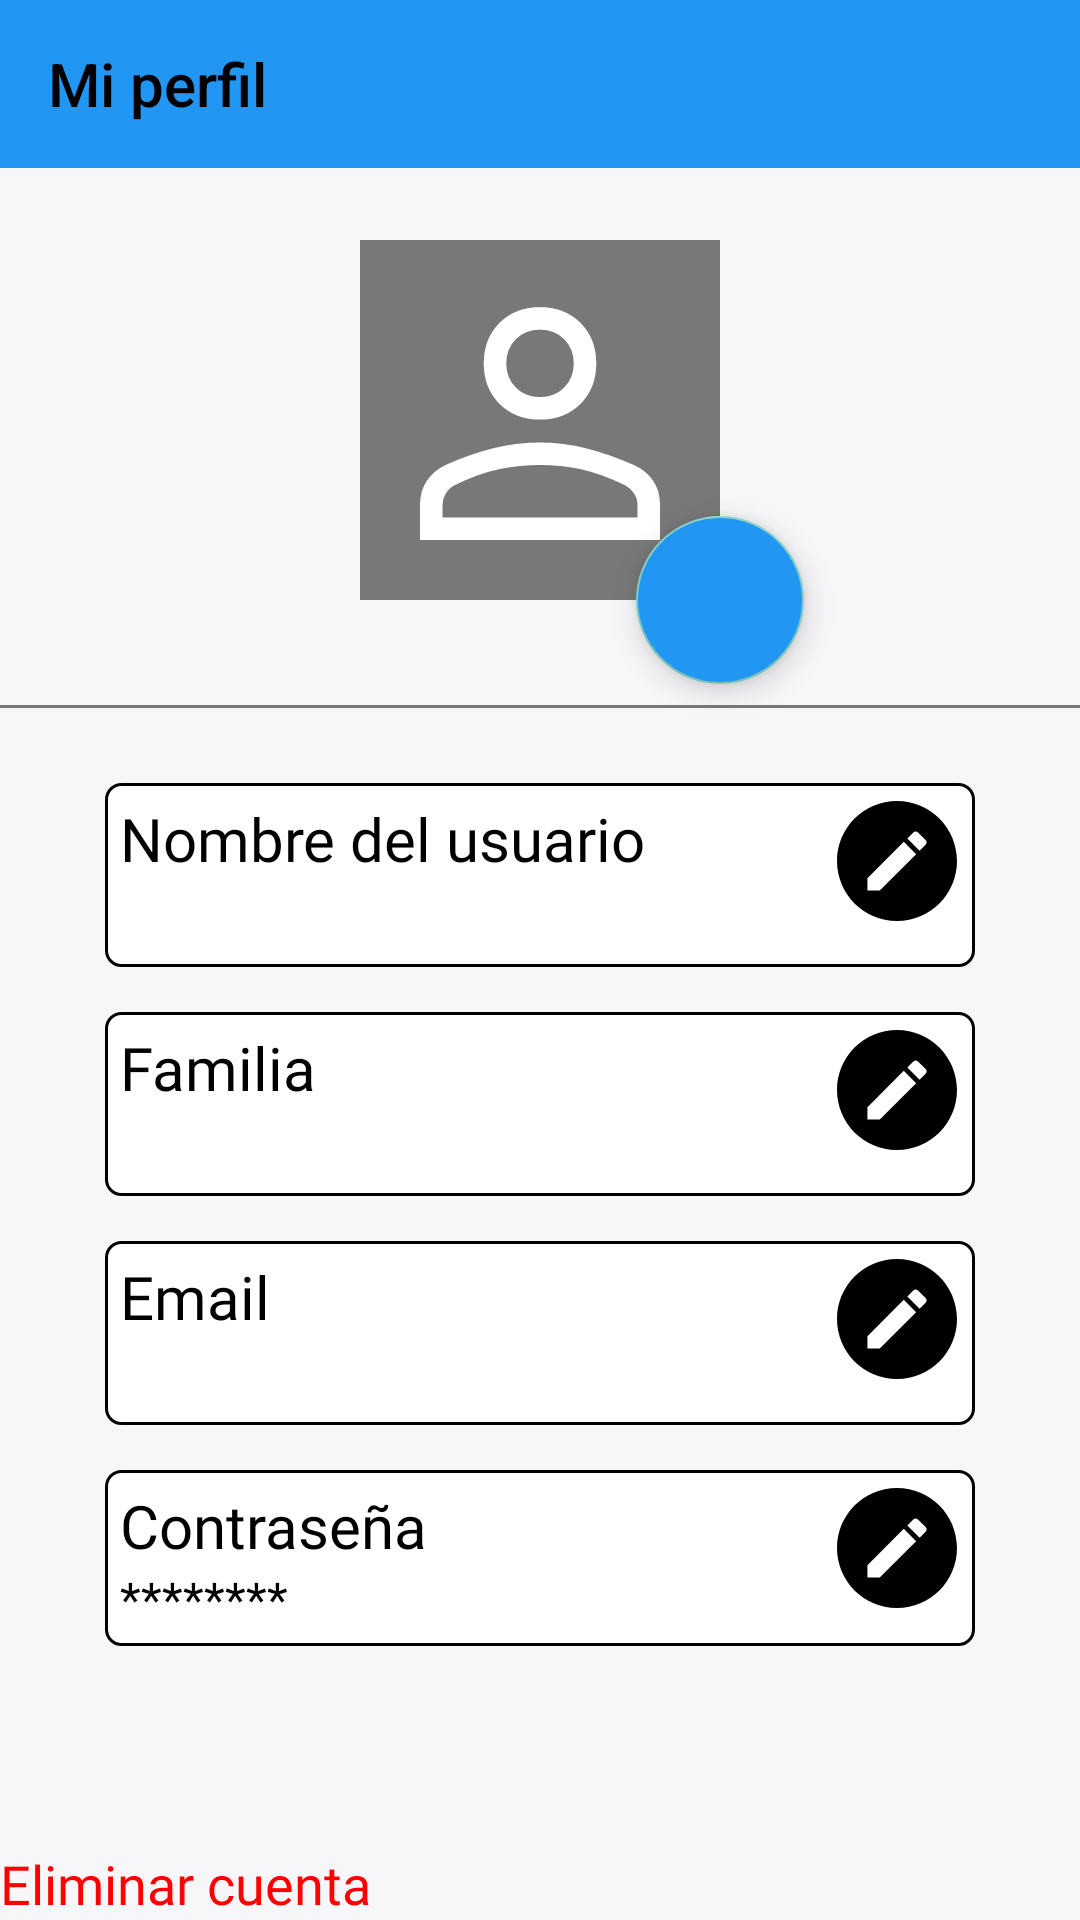

Icon bounding boxes for this 1080px x 1920px phone screenshot, format box(x1, y1, x2, y2):
edit: box(837, 801, 957, 921), box(837, 1030, 957, 1150), box(837, 1259, 957, 1379), box(837, 1488, 957, 1608)
profile: box(360, 240, 720, 600)
